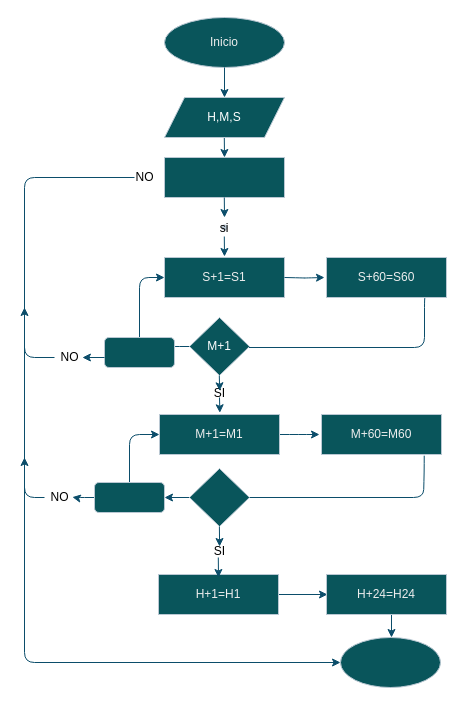
Image size: 464x705. Some labels were removed from this diagram. The shapes that lost their labels are listed below. From the top down, each one's centre as x and y in pixels, then its label:
At point 224,177: "tiene pila".
At point 139,352: "Vuelve a S+1=S1".
At point 129,497: "Vuelve a M+1=M1".
At point 219,497: "H+1".
At point 390,662: "FIN".
